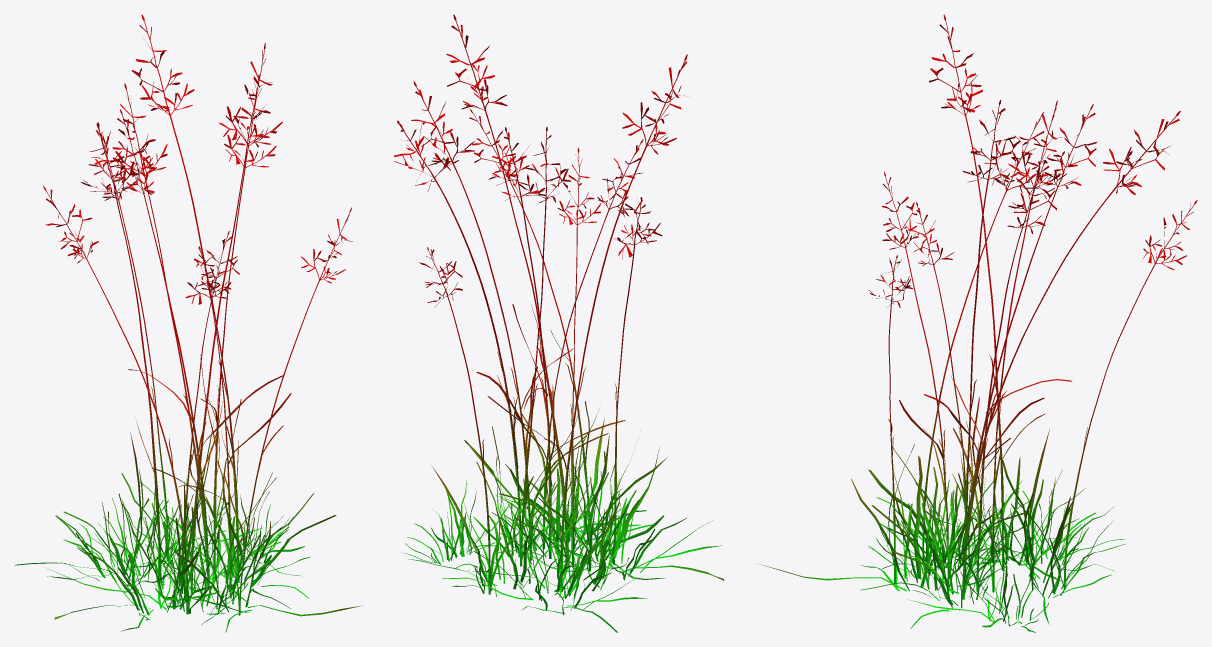
File: Tundra Grass_LOD0_Var7_wk2oaeyqx.fbx
3 views of the same model, side by side, from view 1: azimuth 30°, elevation 25°; view 2: azimuth 150°, elevation 25°; view 3: azimuth 270°, elevation 25° (orthographic). The views are drawn at different scales.
Parts seen in each view (by area): view 1: _hxuq_Var7_LOD0; view 2: _hxuq_Var7_LOD0; view 3: _hxuq_Var7_LOD0.
Part boxes in pixels (box(x1,y1,x2,y2)): _hxuq_Var7_LOD0: box(15, 14, 363, 632); _hxuq_Var7_LOD0: box(394, 14, 724, 632); _hxuq_Var7_LOD0: box(760, 14, 1197, 632).
Bounding box in the file's own units: 39.47 × 72.94 × 55.33.
